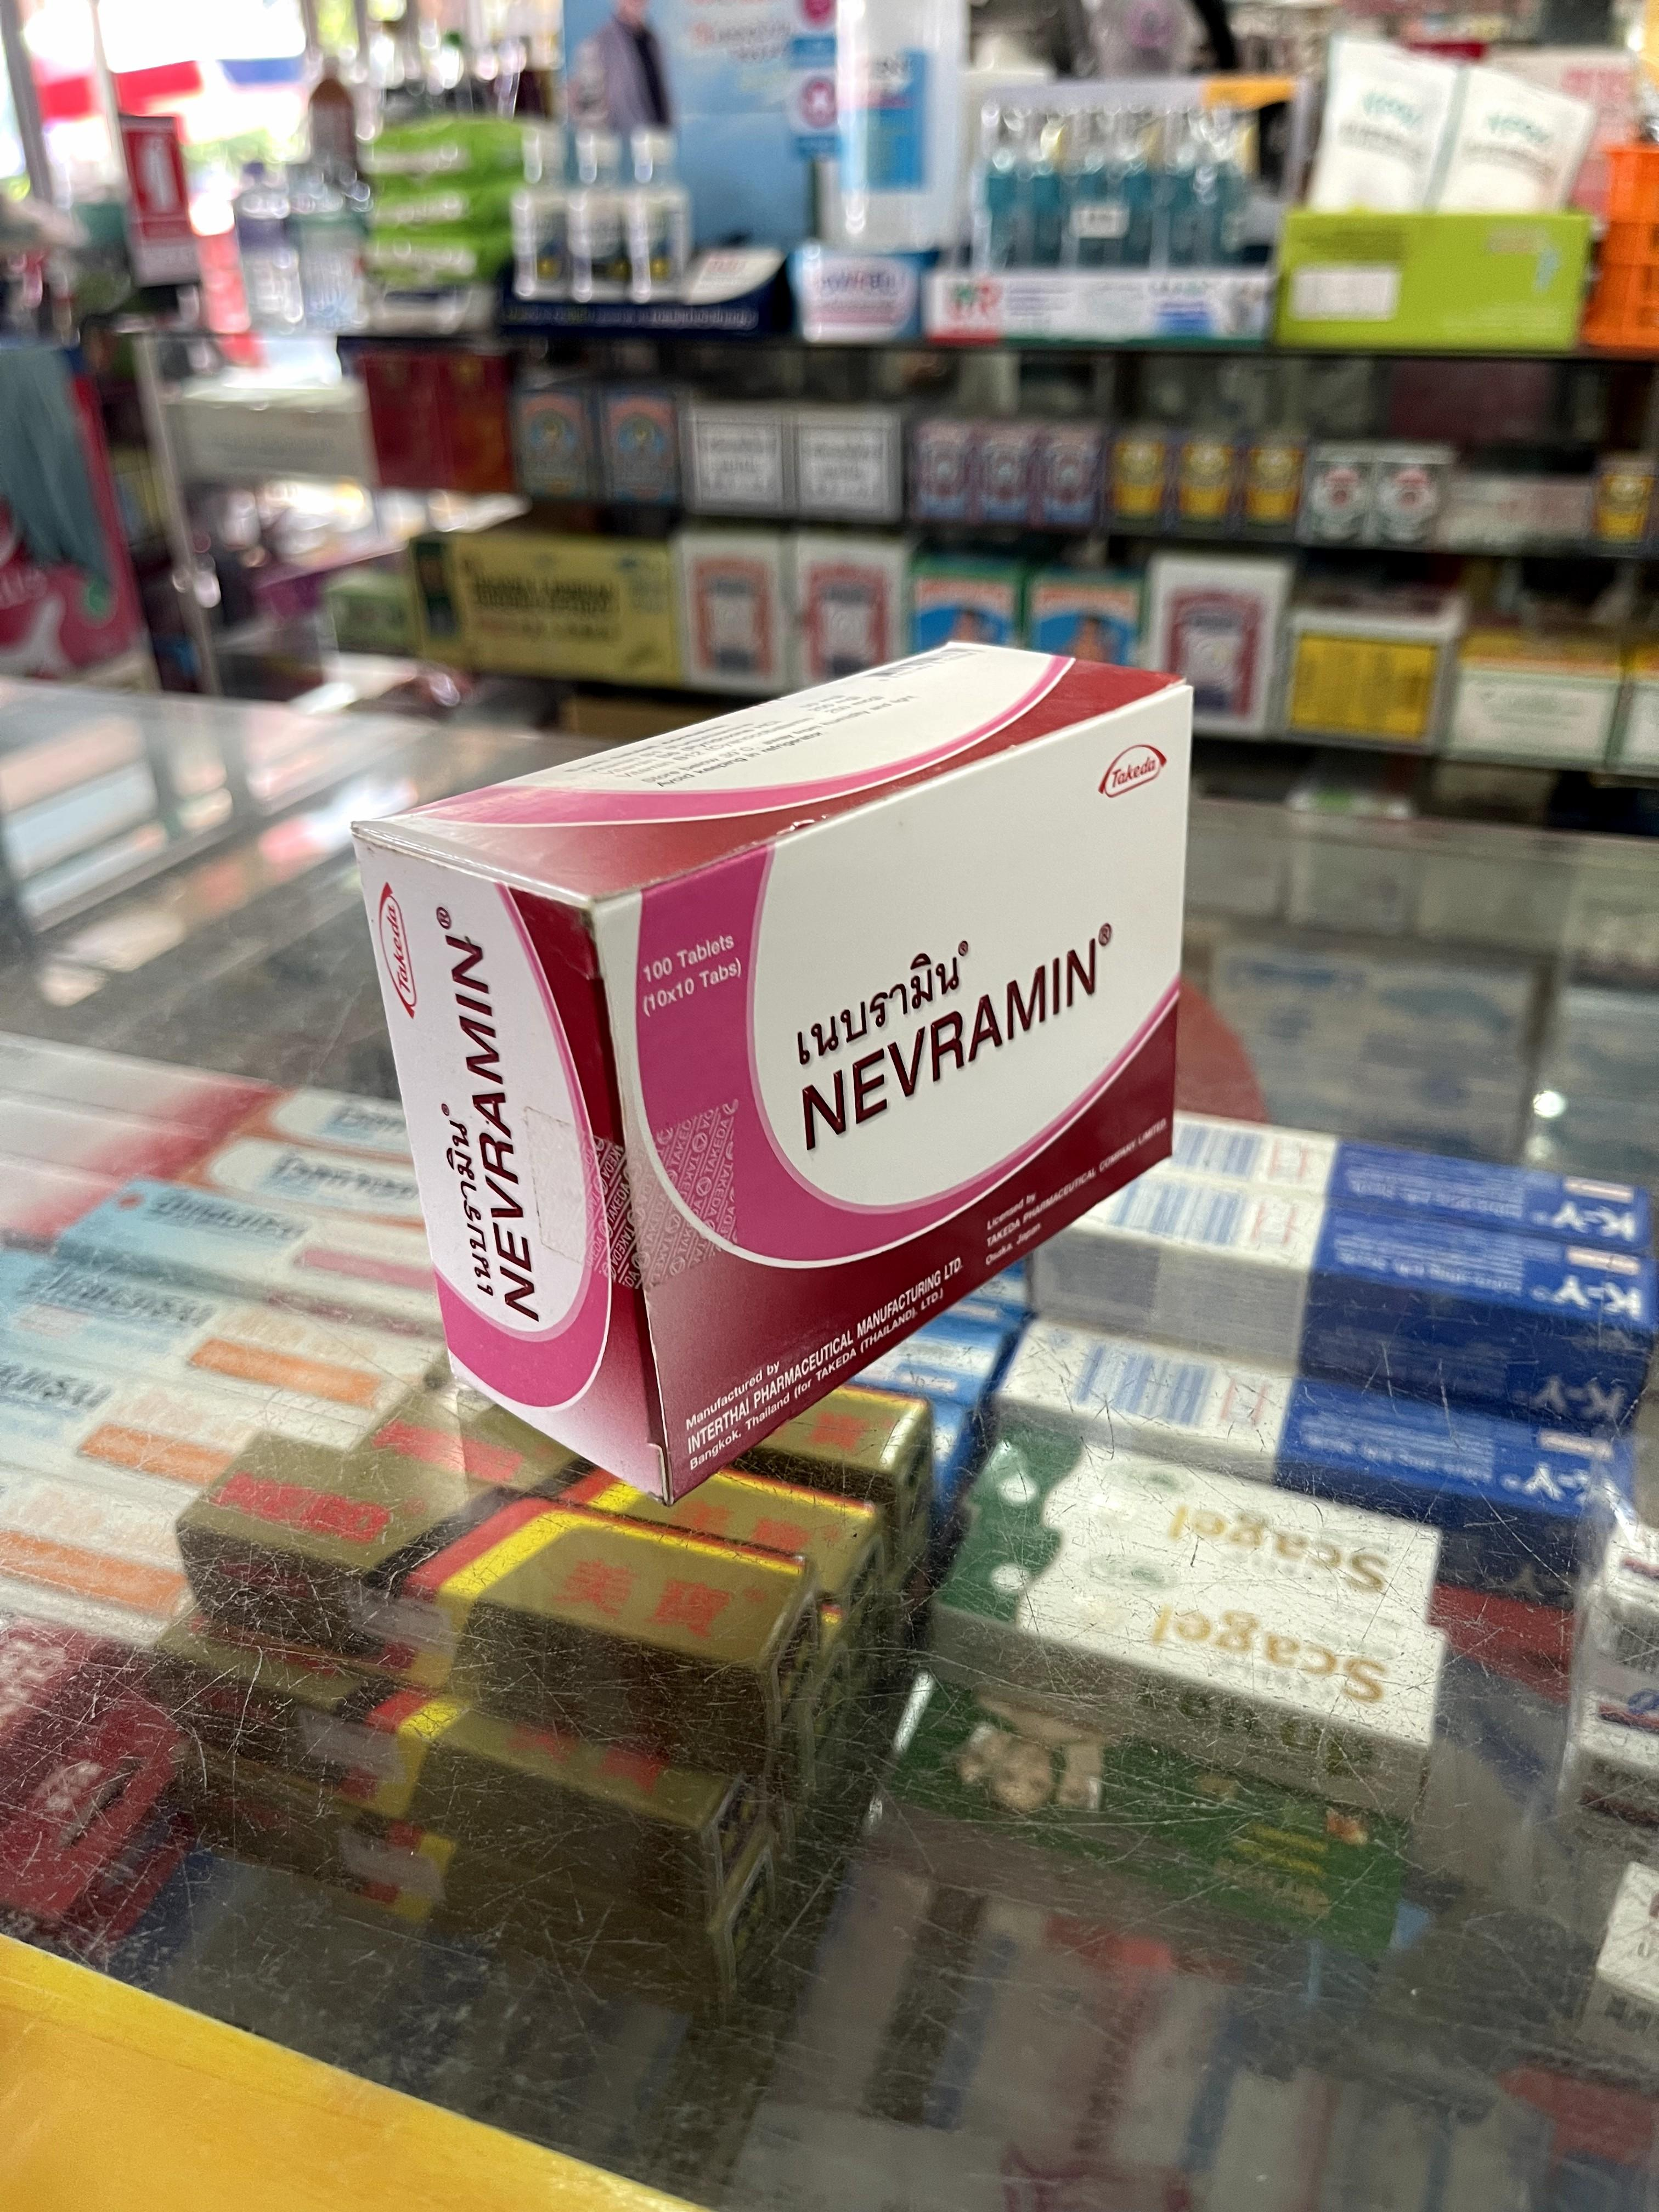Nevramin: (359, 639, 1190, 1494)
